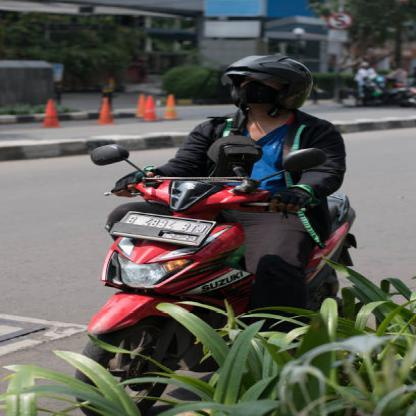Motorcycle: (72, 146, 360, 376)
